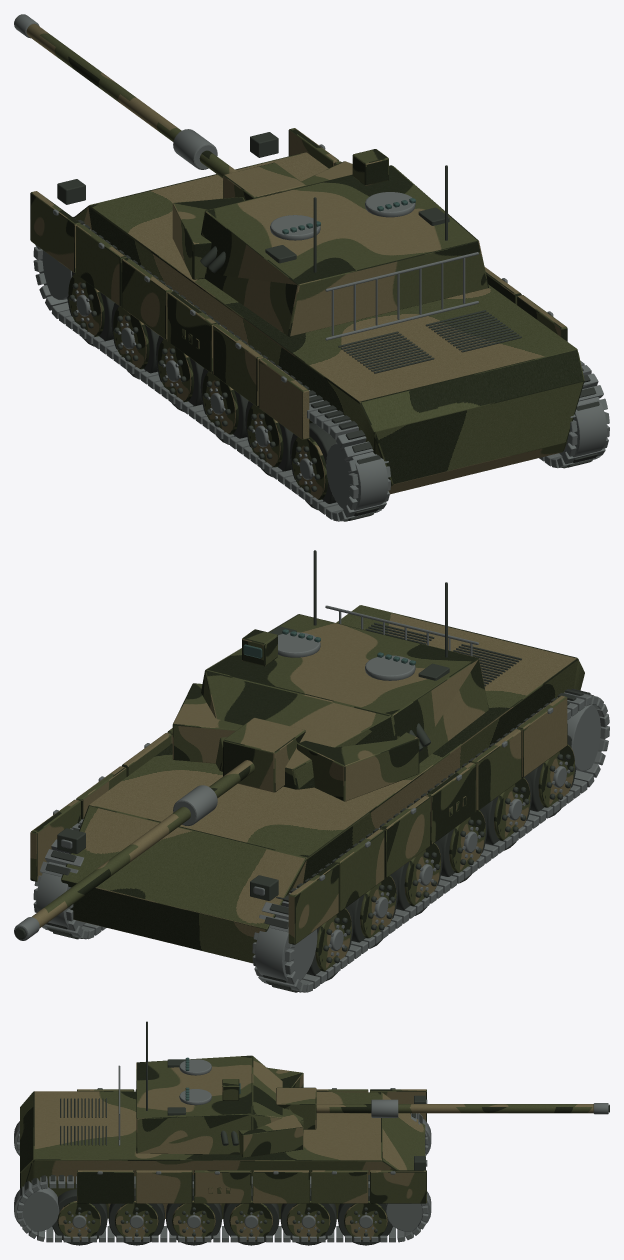
The model's file is k2-pipeline.glb.
3 renders of one model, top to bottom at view 1: azimuth 30°, elevation 25°; view 2: azimuth 150°, elevation 25°; view 3: azimuth 270°, elevation 25°, orthographic. The views are drawn at different scales.
Parts seen in each view (by area): view 1: Hull, Turret, Track_L, Gun, Track_R, Wheel_-1_5, Wheel_-1_3, Wheel_-1_4, Wheel_-1_1, Wheel_-1_2, Wheel_-1_0; view 2: Hull, Turret, Track_L, Gun, Track_R, Wheel_-1_4, Wheel_-1_2, Wheel_-1_3, Wheel_-1_1, Wheel_-1_5, Wheel_-1_0; view 3: Hull, Turret, Track_R, Gun, Wheel_1_5, Wheel_1_2, Wheel_1_1, Wheel_1_3, Wheel_1_4, Wheel_1_0, Track_L.
Part boxes in pixels (x1,y1,x2,y2): Hull: (30, 128, 584, 494); Turret: (172, 149, 488, 340); Track_L: (33, 217, 390, 521); Gun: (14, 14, 305, 200); Track_R: (539, 361, 609, 468); Wheel_-1_5: (290, 422, 336, 510); Wheel_-1_3: (200, 368, 248, 444); Wheel_-1_4: (245, 401, 293, 477); Wheel_-1_1: (111, 303, 159, 379); Wheel_-1_2: (156, 335, 203, 411); Wheel_-1_0: (67, 271, 114, 346); Hull: (30, 605, 584, 963); Turret: (172, 550, 488, 801); Track_L: (252, 688, 609, 992); Gun: (14, 717, 305, 940); Track_R: (33, 819, 106, 939); Wheel_-1_4: (484, 774, 532, 850); Wheel_-1_2: (395, 839, 442, 915); Wheel_-1_3: (439, 807, 487, 882); Wheel_-1_1: (350, 872, 398, 948); Wheel_-1_5: (529, 735, 576, 817); Wheel_-1_0: (306, 905, 353, 980); Hull: (20, 1088, 427, 1219); Turret: (118, 1021, 303, 1157); Track_R: (14, 1175, 431, 1242); Gun: (276, 1087, 609, 1129); Wheel_1_5: (52, 1189, 107, 1245); Wheel_1_2: (223, 1188, 279, 1245); Wheel_1_1: (280, 1189, 336, 1245); Wheel_1_3: (166, 1188, 222, 1245); Wheel_1_4: (108, 1189, 164, 1245); Wheel_1_0: (338, 1189, 393, 1245); Track_L: (14, 1113, 431, 1155).
Size of the model in its own units: 3.69 by 3.38 by 11.02.
Materials: 5 (1 with a texture image).
